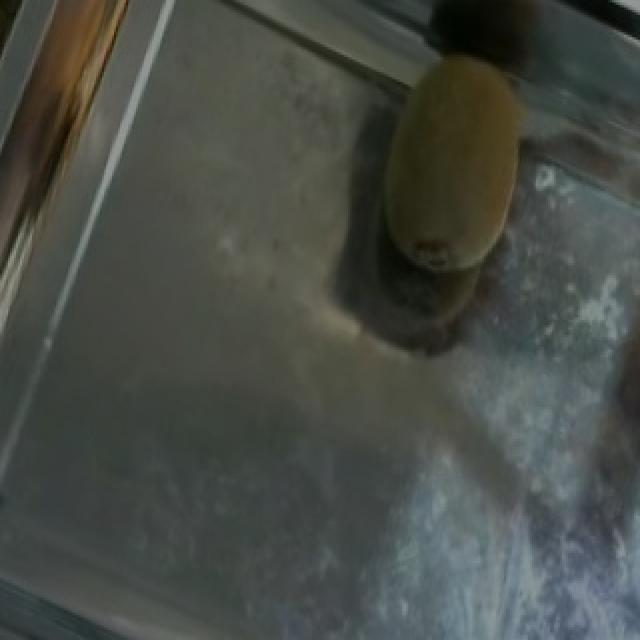Fruit: (338, 18, 570, 312)
